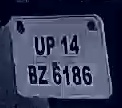1: (60, 35, 70, 59), (62, 63, 72, 87)
4: (69, 33, 83, 55)
6: (81, 65, 95, 88), (51, 64, 62, 86)
8: (71, 65, 83, 88)
B: (27, 63, 38, 85)
P: (46, 32, 56, 56)
U: (33, 33, 46, 57)
Z: (38, 64, 48, 86)
